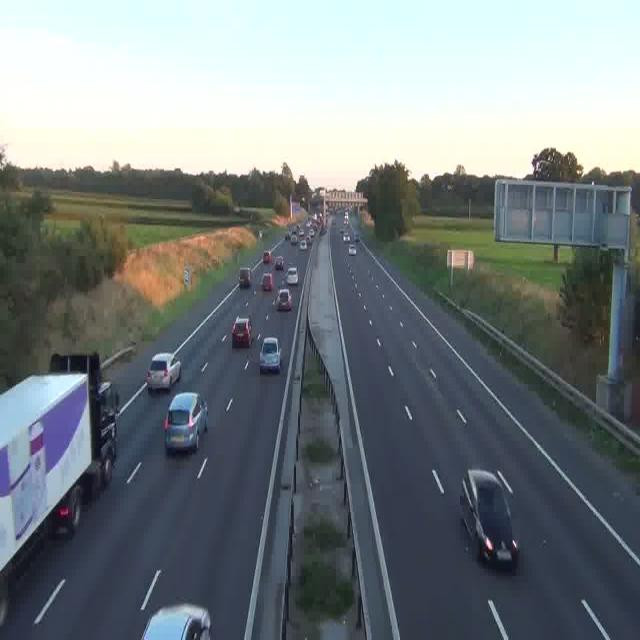car: (459, 468, 518, 569), (164, 392, 206, 453), (141, 603, 210, 640), (146, 354, 182, 392), (259, 335, 282, 372), (232, 316, 253, 346), (276, 288, 292, 312), (262, 270, 274, 289), (238, 268, 250, 286), (286, 266, 298, 284), (274, 256, 286, 272), (263, 251, 272, 265), (300, 237, 308, 250), (348, 244, 356, 256), (284, 230, 290, 243)
truck: (0, 357, 120, 626)
